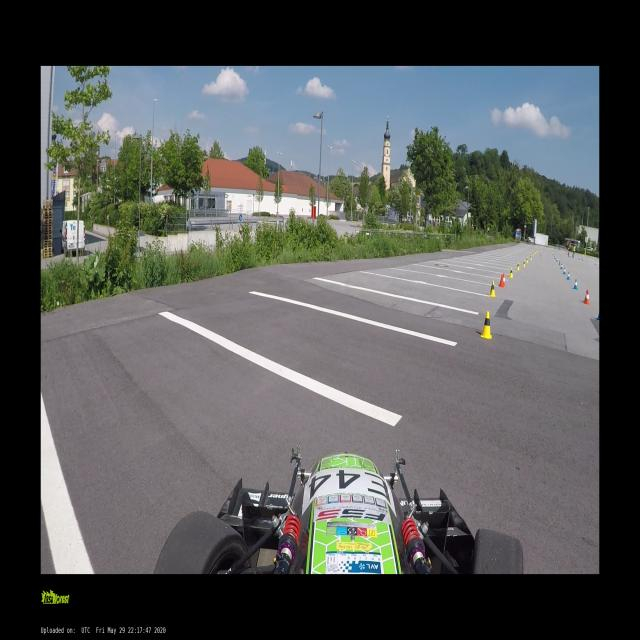blue_cone: (573, 279, 578, 290), (597, 308, 599, 322), (567, 271, 570, 280), (560, 263, 563, 269), (564, 268, 566, 275), (556, 257, 558, 262), (554, 255, 556, 259), (559, 260, 560, 266)
orange_cone: (585, 290, 590, 305), (499, 274, 504, 288), (502, 272, 506, 286), (584, 289, 588, 302)
yellow_cone: (481, 312, 492, 339), (488, 280, 495, 296), (509, 267, 513, 278), (516, 262, 519, 271), (523, 259, 525, 268), (530, 255, 532, 261), (526, 257, 528, 263), (530, 252, 532, 257), (533, 252, 534, 256), (535, 250, 536, 254)
